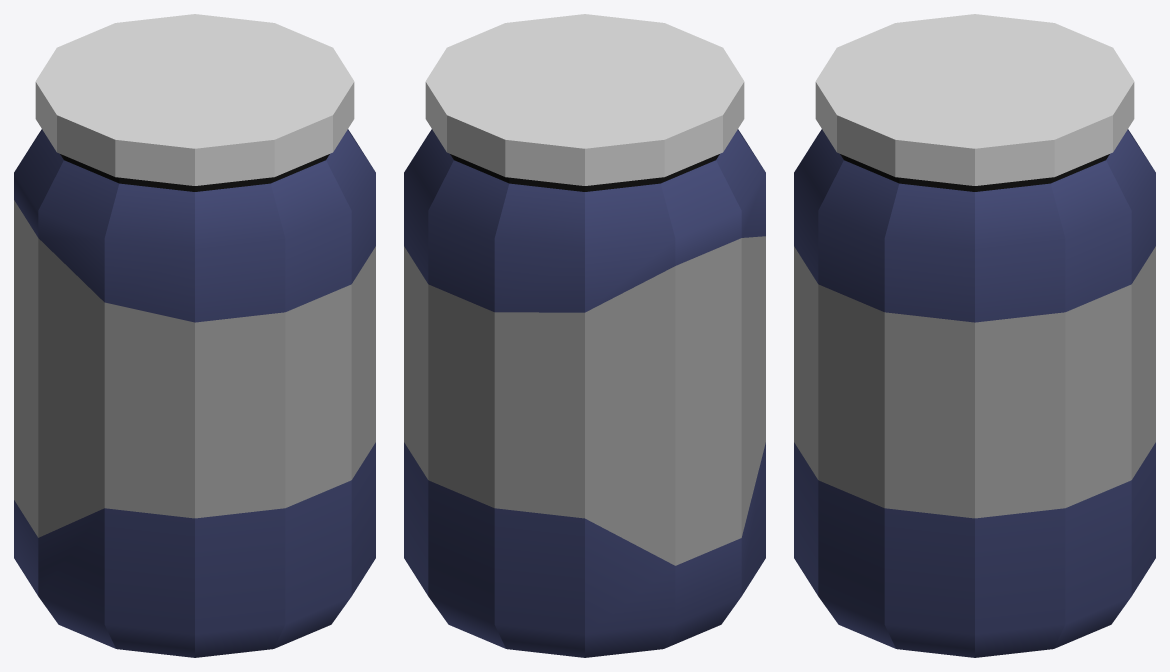
The model's file is LargeJar.fbx.
3 views of the same model, side by side, from view 1: azimuth 30°, elevation 25°; view 2: azimuth 150°, elevation 25°; view 3: azimuth 270°, elevation 25° (orthographic).
Visible parts, largest first — view 1: LargeJar; view 2: LargeJar; view 3: LargeJar.
Boxes of the visible parts, x1,y1,x2,y2 form: LargeJar: (14, 14, 375, 657); LargeJar: (404, 14, 765, 657); LargeJar: (794, 14, 1155, 657).
Size of the model in its own units: 23.1 by 35.92 by 23.1.
